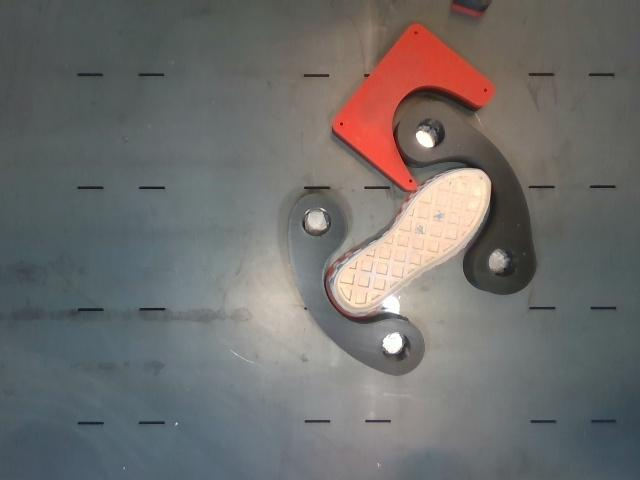shoes: (334, 170, 491, 311)
